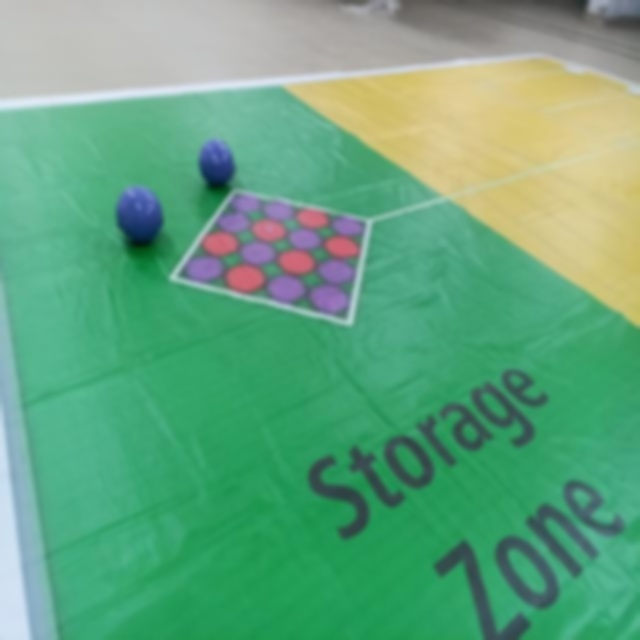purple_ball: (113, 178, 165, 246), (194, 128, 243, 199)
